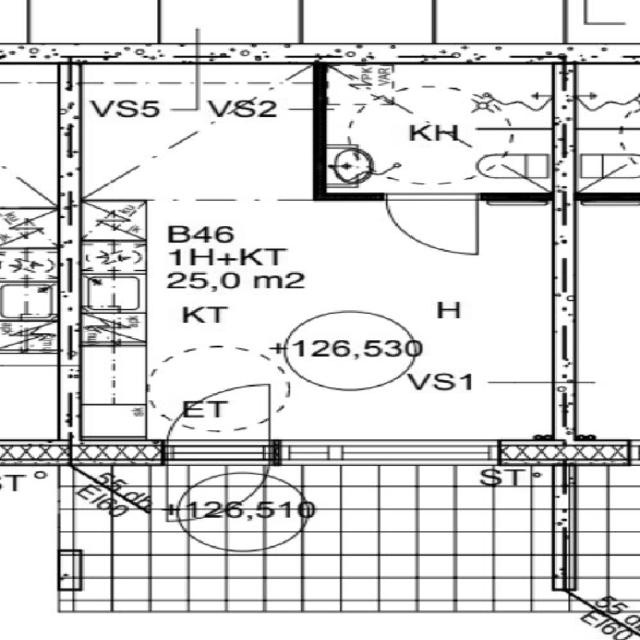door: (375, 191, 485, 256), (179, 518, 234, 554), (256, 522, 304, 552), (53, 206, 75, 223)
zone: (72, 65, 315, 199), (324, 63, 567, 194), (567, 61, 640, 199), (0, 72, 63, 207), (23, 0, 161, 53), (0, 352, 70, 456), (160, 0, 299, 52), (299, 0, 433, 48), (432, 0, 566, 46), (81, 199, 147, 240), (82, 273, 144, 312), (0, 280, 58, 321), (0, 208, 58, 248), (80, 240, 146, 273), (0, 320, 58, 356), (0, 248, 59, 282), (0, 0, 28, 46)
